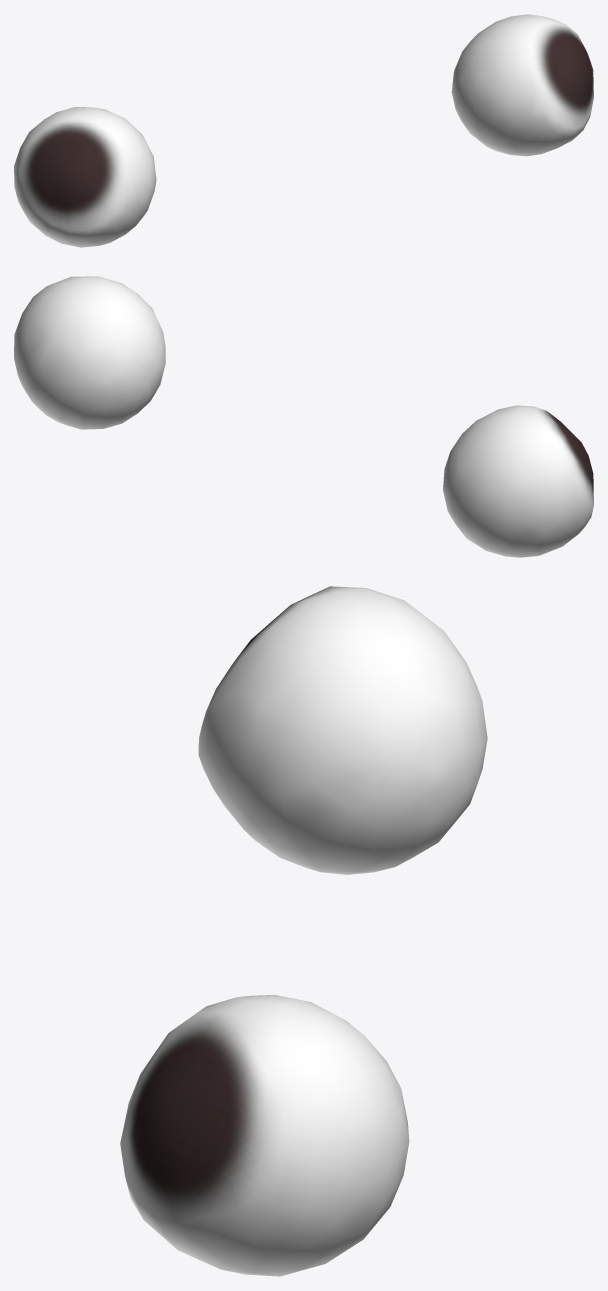
Rendered from Eyes.glb.
The picture shows the model from 3 angles, top to bottom: view 1: azimuth 30°, elevation 25°; view 2: azimuth 150°, elevation 25°; view 3: azimuth 270°, elevation 25°; orthographic projection. The views are drawn at different scales.
Visible parts, largest first — view 1: eyes.001; view 2: eyes.001; view 3: eyes.001.
Part boxes in pixels (box(x1,y1,x2,y2)): eyes.001: box(14, 14, 593, 247); eyes.001: box(14, 276, 593, 557); eyes.001: box(120, 586, 487, 1276).
Bounding box in the file's own units: 0.1918 × 0.044 × 0.0558.
Materials: 1 (1 with a texture image).
